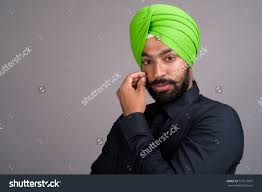helmet: (129, 3, 201, 98)
